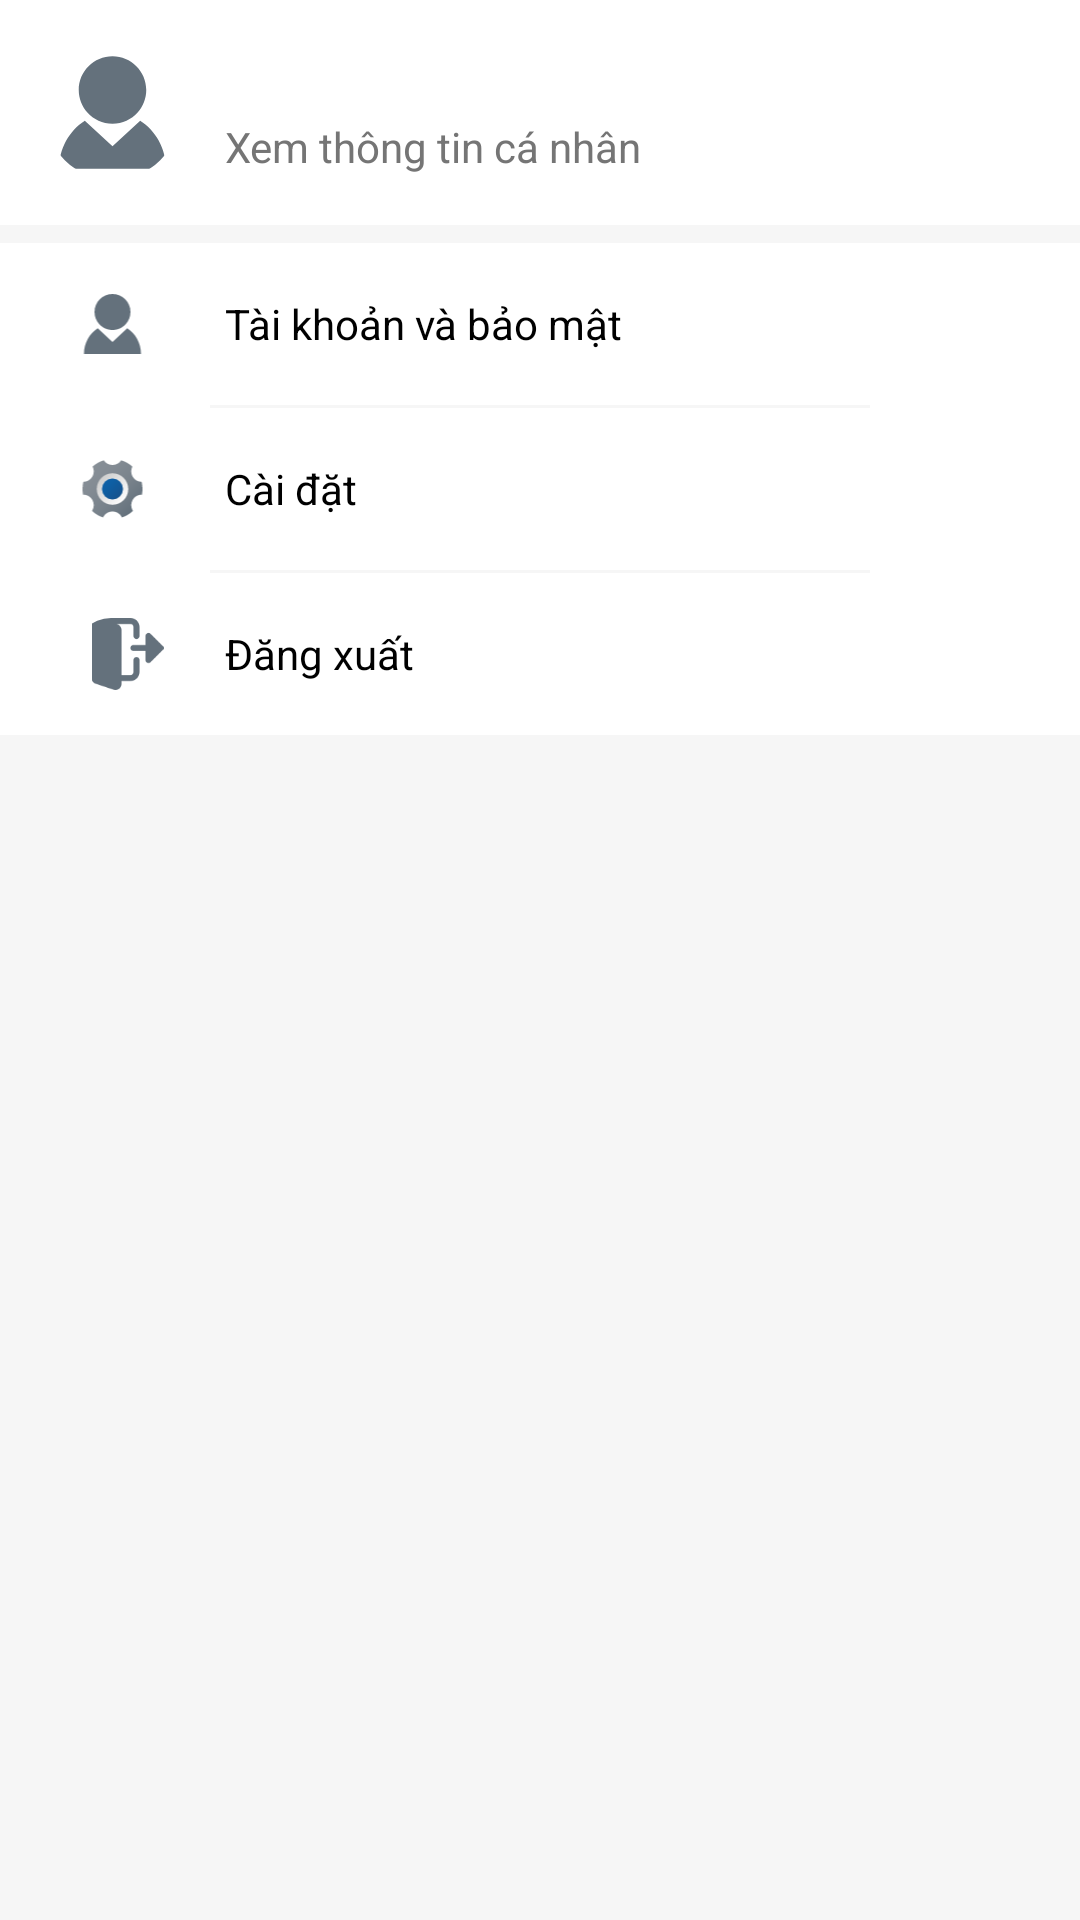

Icons on this 1080x1920 Android screen, each with its box as Rect(x1, y1, x2, y2):
account: Rect(60, 56, 164, 169), Rect(83, 294, 142, 354)
setting: Rect(82, 460, 143, 517)
